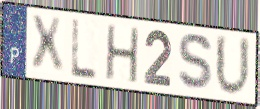2: (142, 28, 175, 91)
H: (103, 23, 140, 86)
L: (69, 18, 100, 82)
S: (176, 31, 216, 94)
U: (214, 32, 252, 100)
X: (29, 14, 66, 76)
